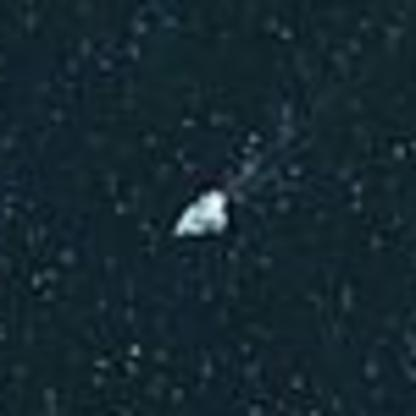ship: (168, 184, 235, 242)
